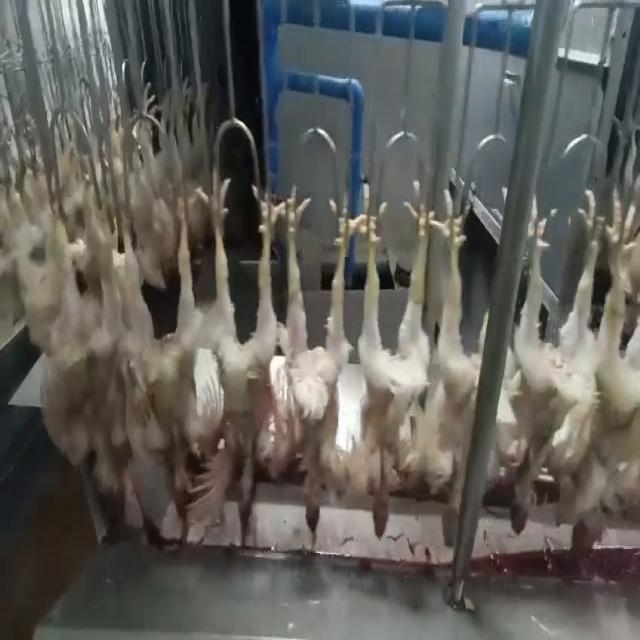chicken: (347, 160, 426, 542), (272, 188, 356, 537), (494, 185, 576, 539), (129, 172, 208, 527), (415, 173, 485, 545), (571, 177, 639, 558), (205, 176, 275, 541)
